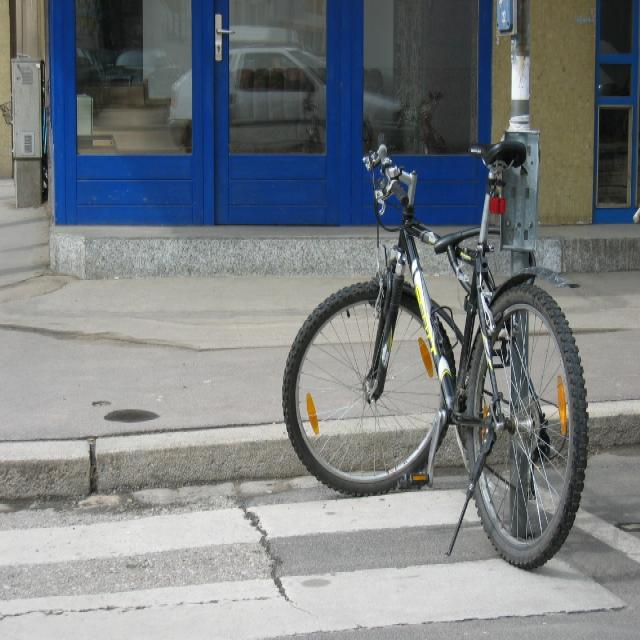bicycle: (281, 133, 589, 568)
